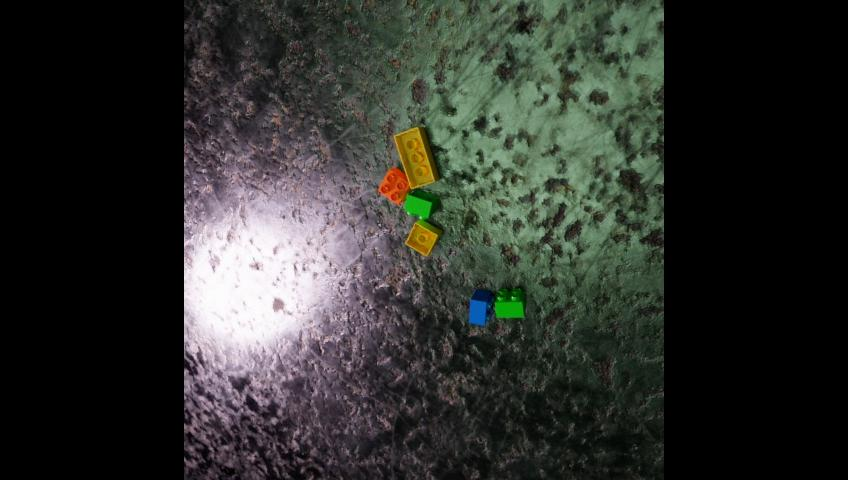2x2_blue: (468, 289, 493, 325)
2x2_green: (403, 191, 439, 219), (494, 289, 525, 317)
2x2_orange: (377, 168, 411, 204)
2x2_yellow: (405, 219, 441, 256)
4x2_yellow: (393, 127, 439, 188)
